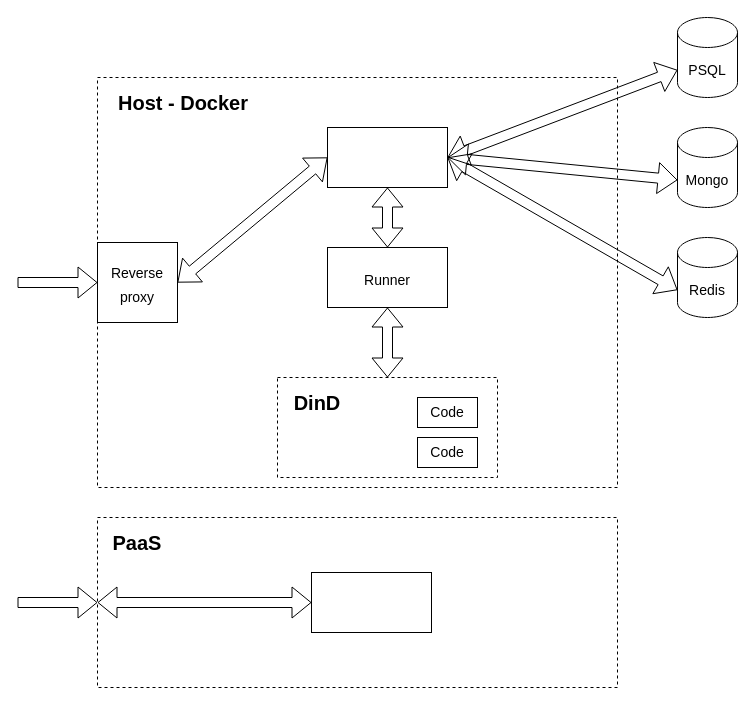
Image size: 755x705. Some labels were removed from this diagram. The centre of each missing label's shape, as x and y in pixels:
"API" belongs at [387,157].
"Front" belongs at [371,602].
